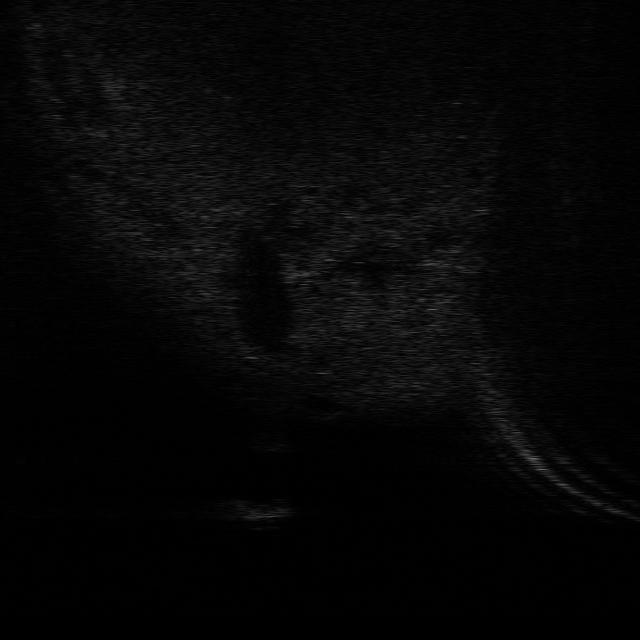cube: (219, 502, 291, 525)
